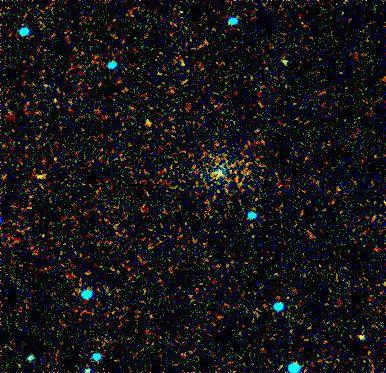star: (139, 105, 169, 135)
